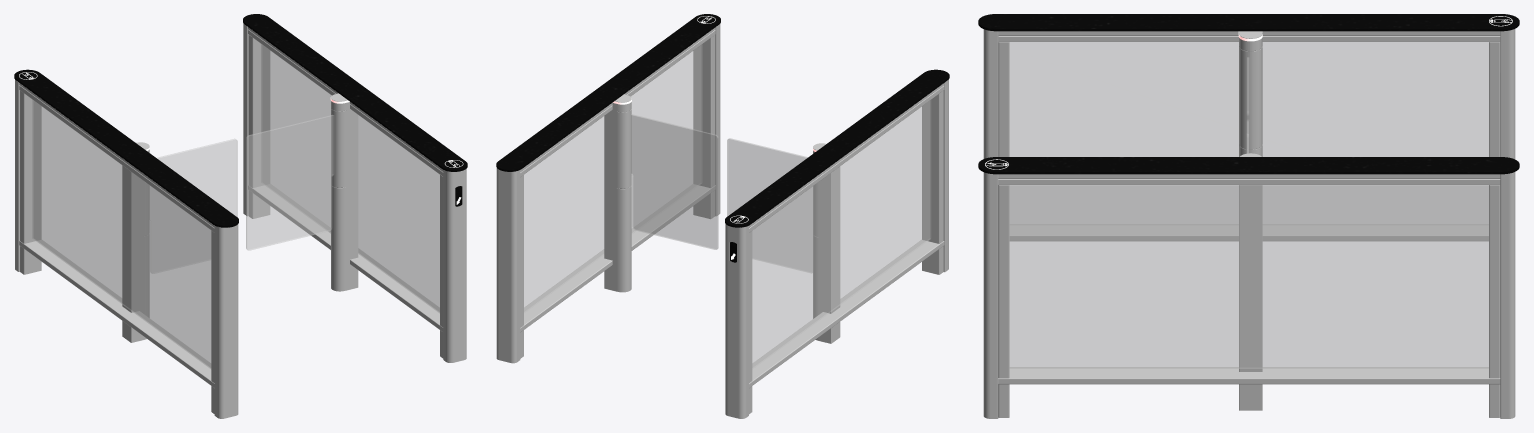
3 renders of one model, left to right at view 1: azimuth 30°, elevation 25°; view 2: azimuth 150°, elevation 25°; view 3: azimuth 270°, elevation 25°, orthographic. The views are drawn at different scales.
Visible parts, largest first — view 1: Default-Glass_green, Default-Brush_Metall, Default-Stone, ST_metal_cover, ST_metal_cover.1; view 2: Default-Glass_green, Default-Brush_Metall, Default-Stone, ST_metal_cover.1, ST_metal_cover; view 3: Default-Glass_green, Default-Brush_Metall, Default-Stone, ST_metal_cover.1, ST_metal_cover.
Part boxes in pixels (x1=…): Default-Glass_green: x1=32, y1=44, x2=439, y2=368; Default-Brush_Metall: x1=15, y1=27, x2=466, y2=413; Default-Stone: x1=14, y1=14, x2=467, y2=227; ST_metal_cover: x1=214, y1=224, x2=238, y2=418; ST_metal_cover.1: x1=243, y1=23, x2=248, y2=216; Default-Glass_green: x1=524, y1=44, x2=930, y2=369; Default-Brush_Metall: x1=513, y1=24, x2=944, y2=418; Default-Stone: x1=496, y1=14, x2=949, y2=262; ST_metal_cover.1: x1=496, y1=168, x2=520, y2=363; ST_metal_cover: x1=943, y1=79, x2=948, y2=272; Default-Glass_green: x1=1009, y1=42, x2=1488, y2=368; Default-Brush_Metall: x1=983, y1=29, x2=1515, y2=418; Default-Stone: x1=978, y1=14, x2=1519, y2=174; ST_metal_cover.1: x1=1500, y1=172, x2=1515, y2=418; ST_metal_cover: x1=983, y1=29, x2=998, y2=158.
Bounding box in the file's own units: 54.34 × 39.87 × 78.72.
Materials: 5 (1 with a texture image).
